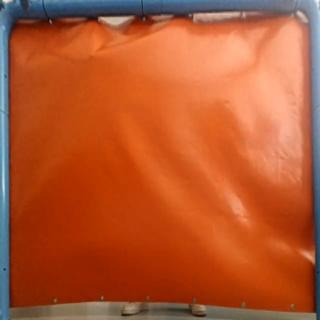Hit-hRxx: (84, 49, 100, 64)
